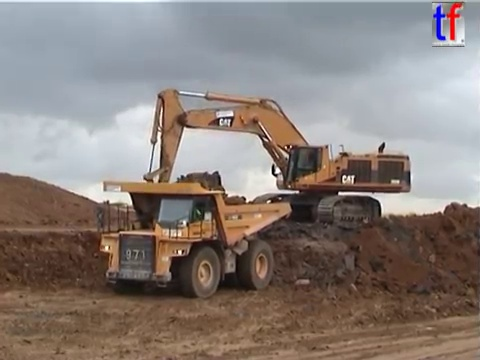excavator: (140, 86, 414, 232)
truck: (94, 179, 295, 301)
